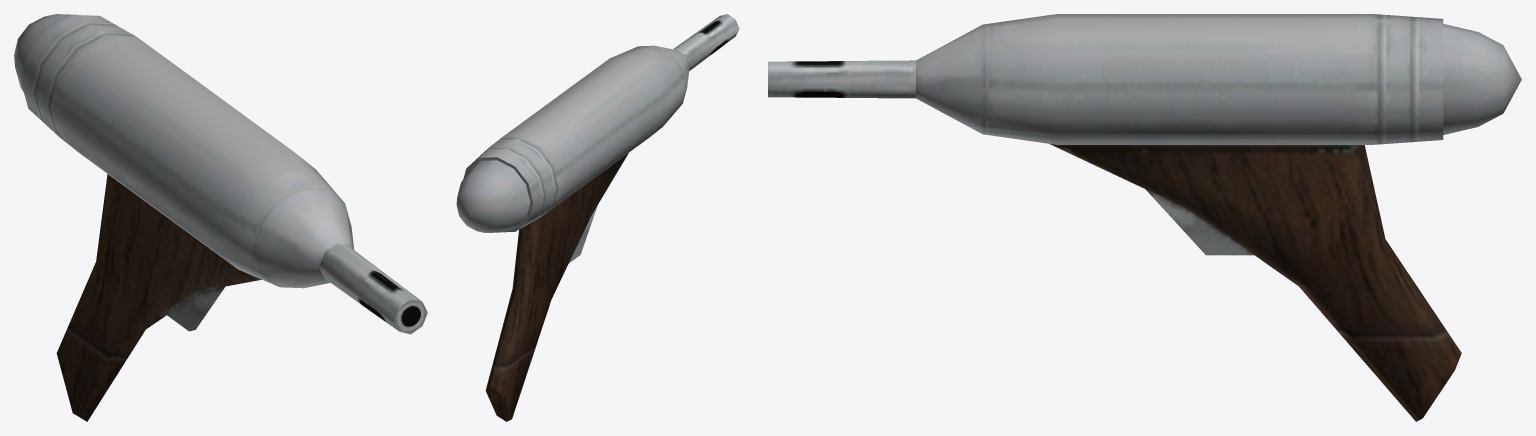
The model's file is wp_pistol_republic_blaster_l0.fbx.
3 renders of one model, left to right at view 1: azimuth 30°, elevation 25°; view 2: azimuth 150°, elevation 25°; view 3: azimuth 270°, elevation 25°, orthographic. The views are drawn at different scales.
Parts seen in each view (by area): view 1: mesh_node; view 2: mesh_node; view 3: mesh_node.
Boxes of the visible parts, box(x1,y1,x2,y2) form: mesh_node: box(14, 14, 427, 421); mesh_node: box(456, 14, 739, 421); mesh_node: box(768, 14, 1521, 421).
Bounding box in the file's own units: 0.0453 × 0.1529 × 0.2597.
Materials: 1 (1 with a texture image).
